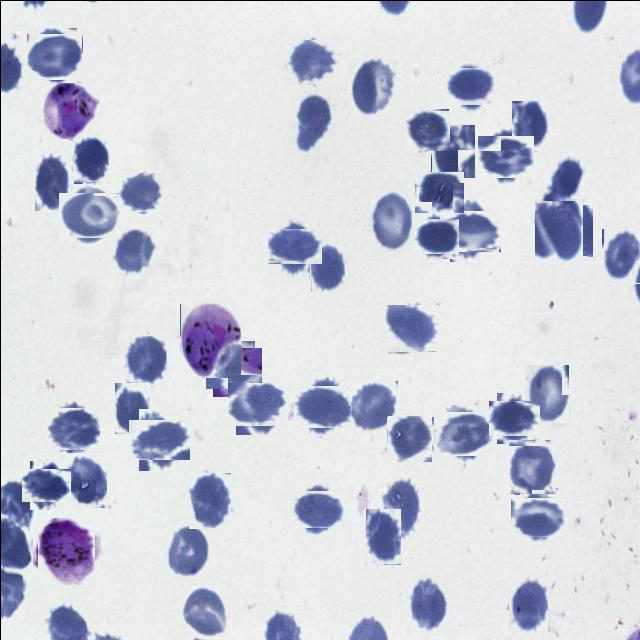difficult: (42, 81, 99, 138)
gametocyte: (179, 303, 240, 378), (35, 520, 97, 582)
red blood cell: (534, 198, 582, 260), (62, 188, 116, 242), (348, 57, 395, 118), (27, 29, 80, 82), (231, 378, 283, 430), (444, 204, 496, 256), (368, 190, 411, 252), (379, 475, 420, 540), (507, 439, 555, 494), (386, 302, 437, 353), (132, 414, 184, 464), (524, 364, 568, 423), (298, 380, 348, 431), (438, 408, 489, 458), (178, 585, 227, 637), (480, 130, 530, 180), (208, 343, 258, 392), (292, 90, 331, 152), (166, 522, 209, 578), (514, 492, 563, 541), (350, 380, 397, 431), (430, 124, 474, 178), (64, 452, 106, 508), (188, 471, 230, 526), (288, 38, 336, 86), (49, 404, 97, 451), (408, 576, 448, 631), (508, 576, 547, 632), (112, 226, 154, 277), (551, 204, 592, 256), (416, 168, 462, 214), (124, 334, 166, 384), (602, 228, 640, 283), (34, 152, 70, 210), (294, 486, 339, 532), (364, 508, 400, 564), (387, 416, 432, 460), (272, 224, 316, 268), (118, 170, 162, 214), (492, 396, 536, 440), (450, 64, 492, 108), (114, 382, 150, 433), (548, 154, 586, 202), (406, 109, 449, 151), (511, 100, 547, 150), (72, 136, 108, 184), (25, 464, 67, 505), (309, 243, 344, 292), (416, 214, 456, 256)
